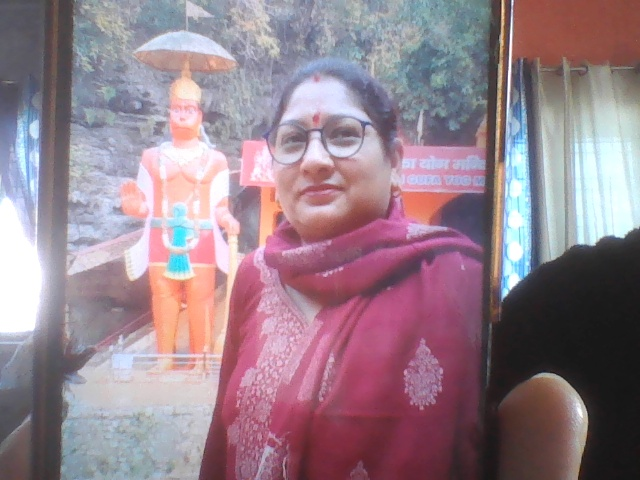fake: (264, 38, 410, 245)
